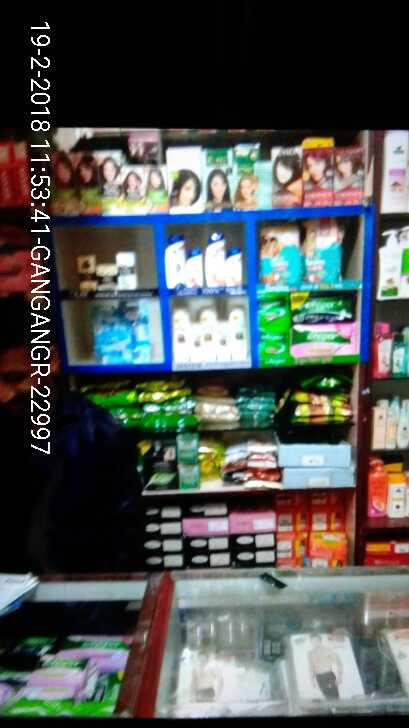venus: (91, 308, 128, 364), (128, 298, 149, 364)
